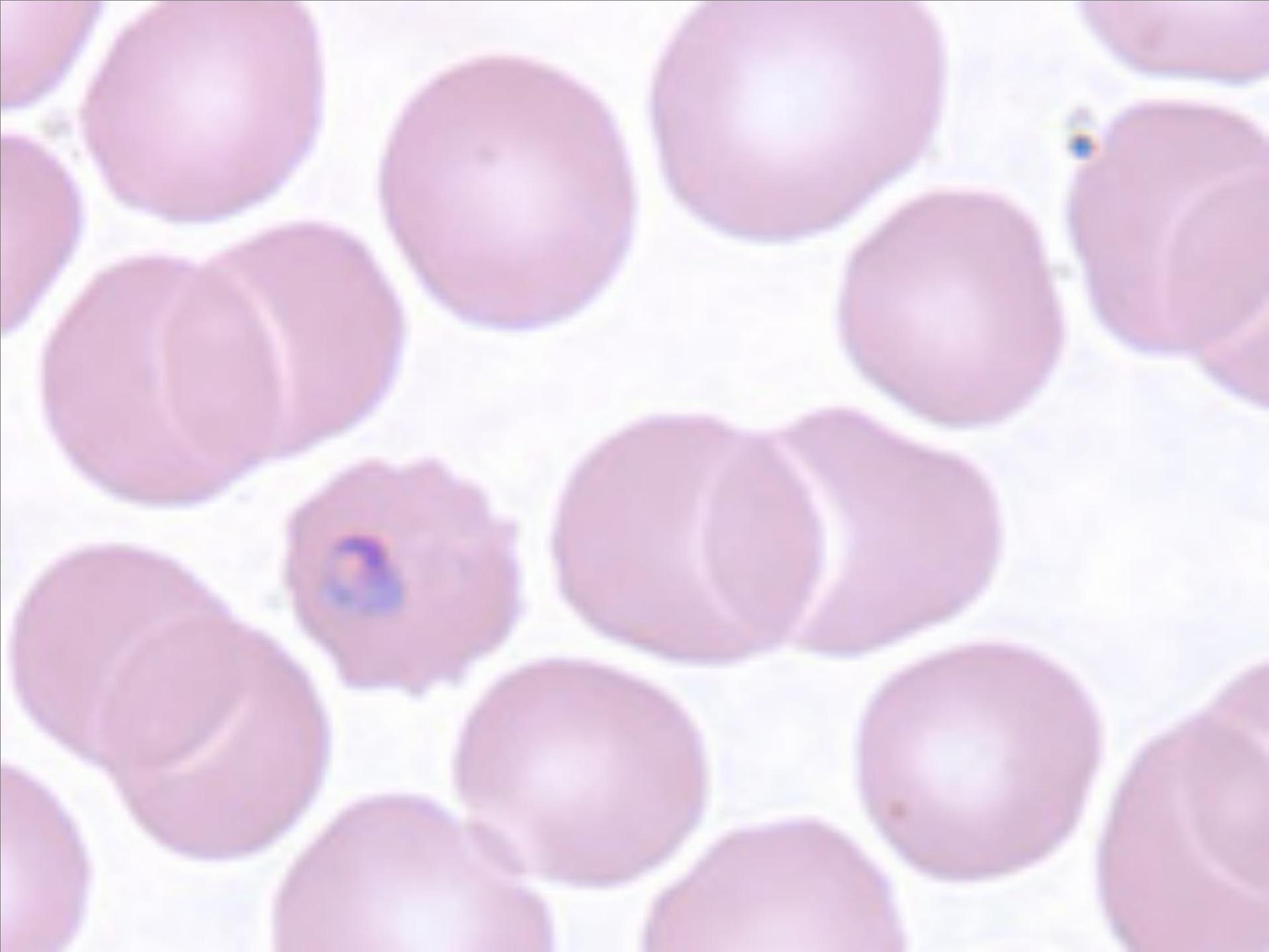Infected: (281, 461, 526, 694)
Uninfected: (701, 409, 1002, 656), (649, 0, 942, 245), (382, 57, 636, 331), (554, 412, 825, 664), (45, 250, 286, 508), (856, 645, 1104, 879), (449, 663, 707, 887), (164, 222, 403, 463), (101, 622, 328, 859), (83, 0, 321, 226), (839, 190, 1064, 425), (10, 546, 249, 764), (1069, 99, 1269, 355), (271, 795, 553, 952), (1094, 726, 1269, 952), (643, 818, 904, 952)
